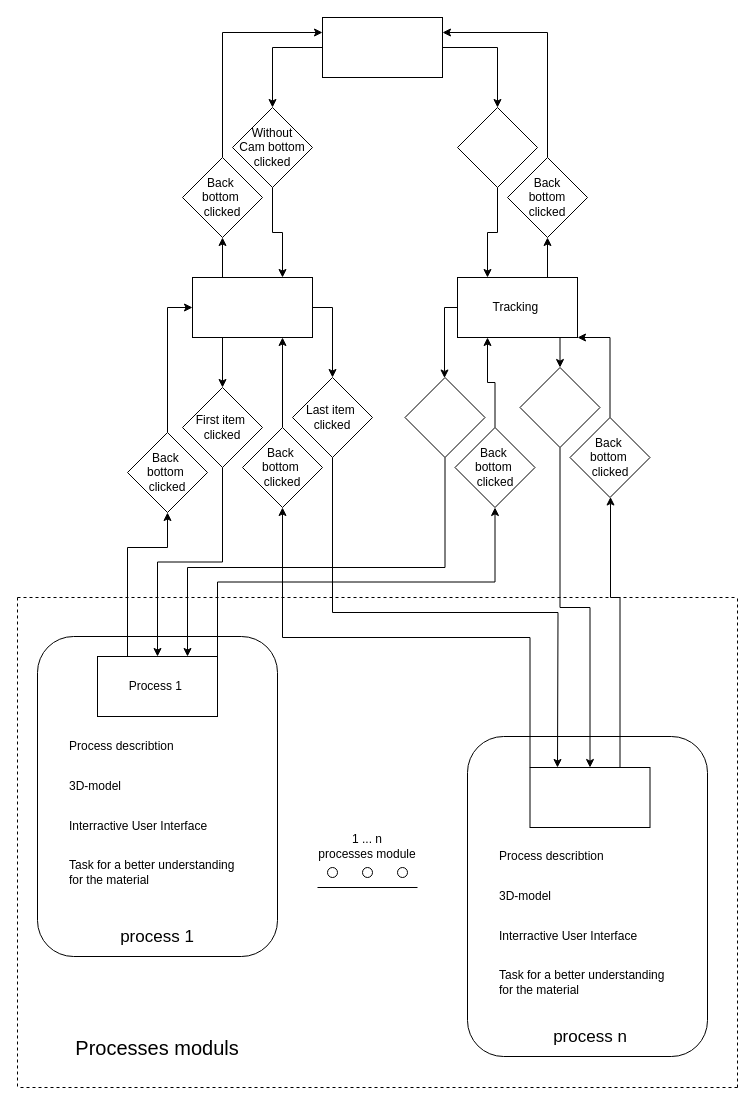
Some shapes in this 756 by 1106 pixel diagram are drawn without their labels. The box of each missing label's shape, as (x1, y1, x2, y2) in pixels:
Cam bottom clicked: (456, 106, 538, 188)
Main: (322, 16, 442, 78)
Object 1 tracked: (404, 376, 485, 458)
Object n tracked: (519, 366, 600, 448)
Process n (last): (529, 766, 650, 828)
Themes menu: (192, 276, 312, 338)
